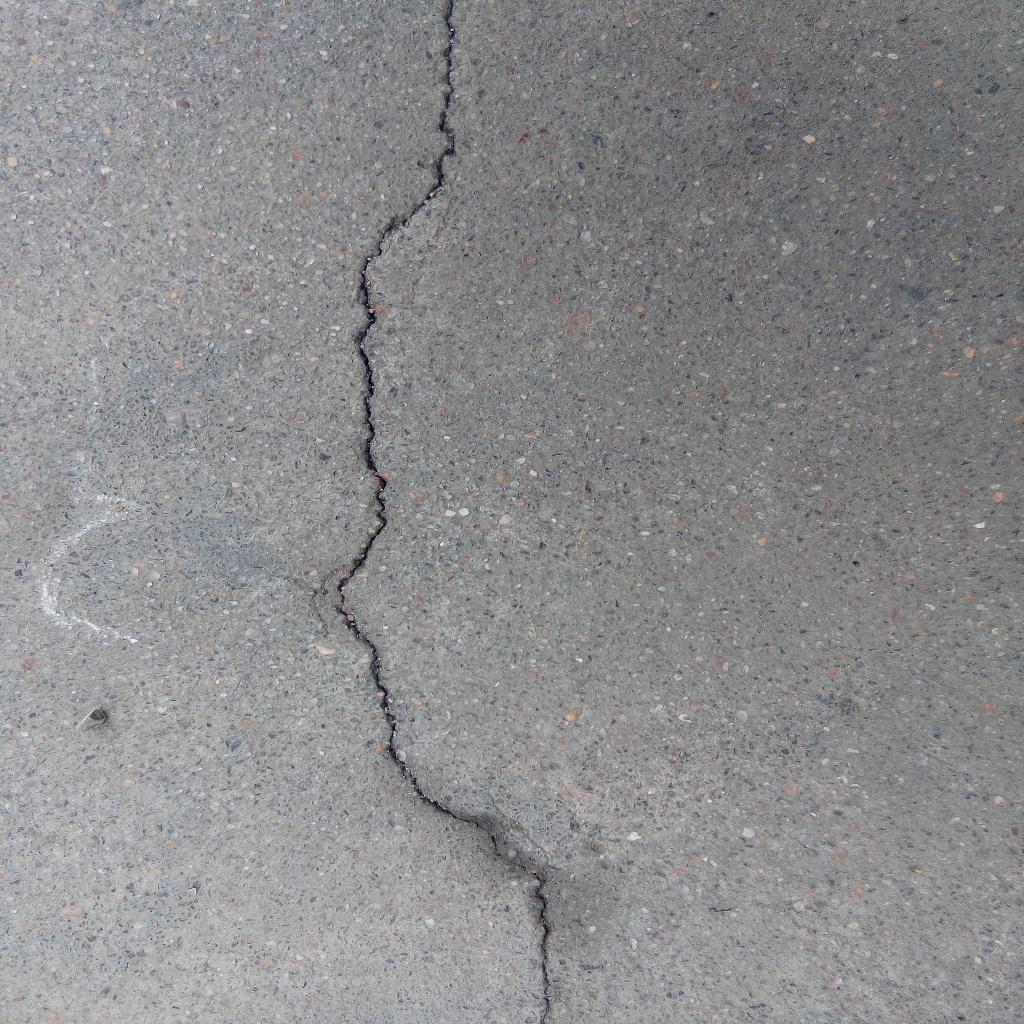Crack: (336, 1, 552, 1024)
